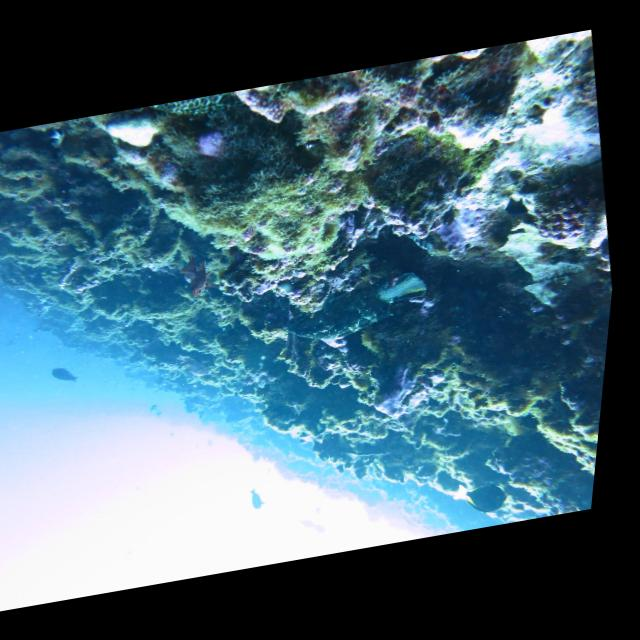Groupers: (273, 267, 435, 345)
